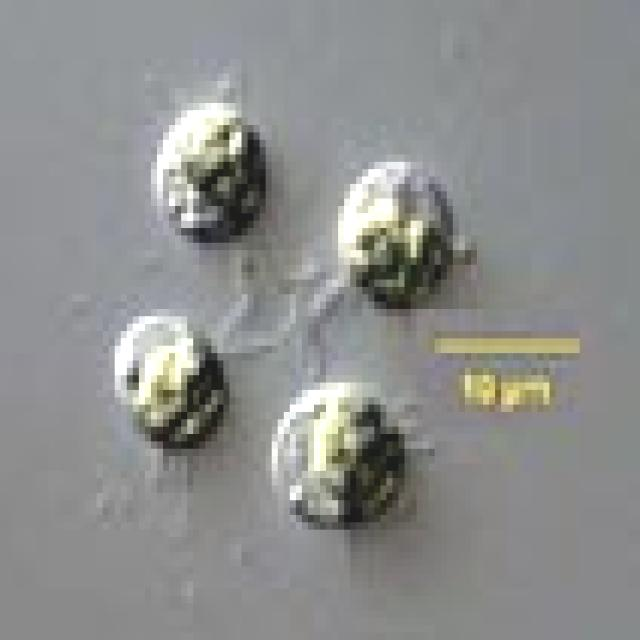Green Algae: (266, 375, 404, 537), (332, 147, 453, 316), (145, 103, 266, 250), (115, 324, 229, 448)
